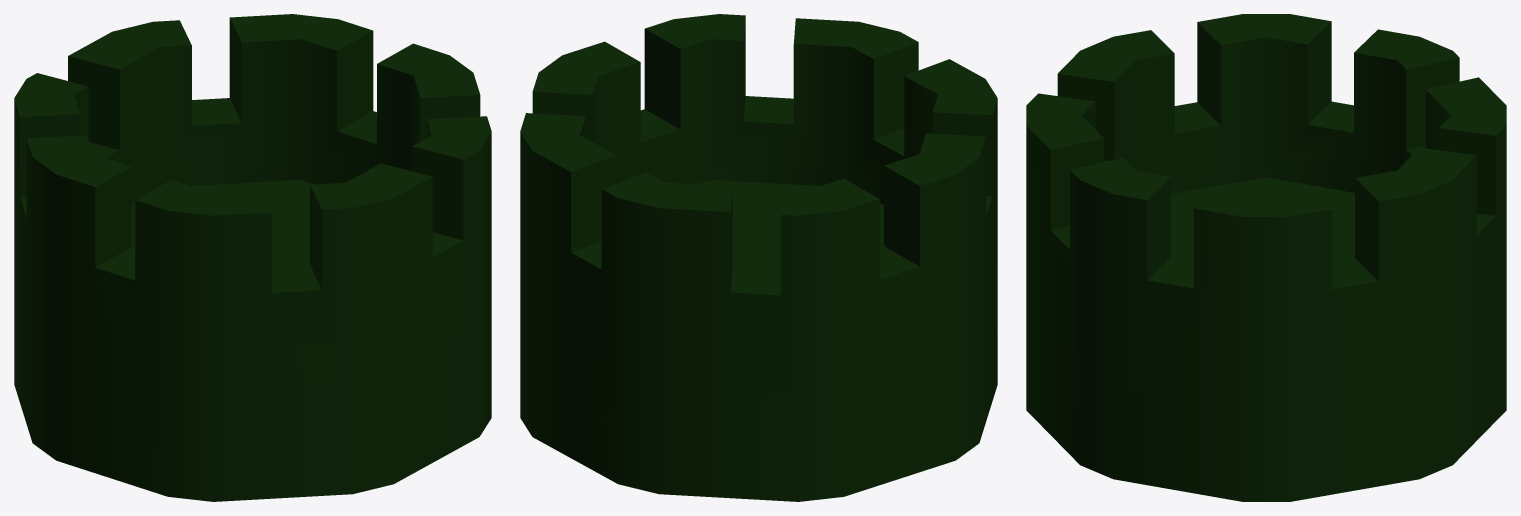
Rendered from round-tower-top-9.fbx.
The picture shows the model from 3 angles, left to right: view 1: azimuth 30°, elevation 25°; view 2: azimuth 150°, elevation 25°; view 3: azimuth 270°, elevation 25°; orthographic projection.
Visible parts, largest first — view 1: round-tower-top-9; view 2: round-tower-top-9; view 3: round-tower-top-9.
Part boxes in pixels (x1,y1,x2,y2): round-tower-top-9: [14, 14, 491, 501]; round-tower-top-9: [520, 14, 997, 501]; round-tower-top-9: [1026, 14, 1506, 501].
Size of the model in its own units: 2.69 by 1.76 by 2.69.
